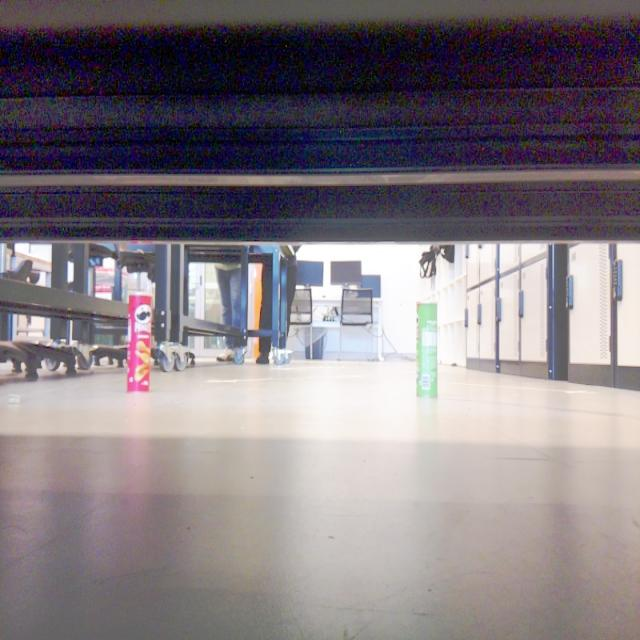greenpringles: (406, 293, 450, 410)
redpringles: (118, 286, 166, 400)
